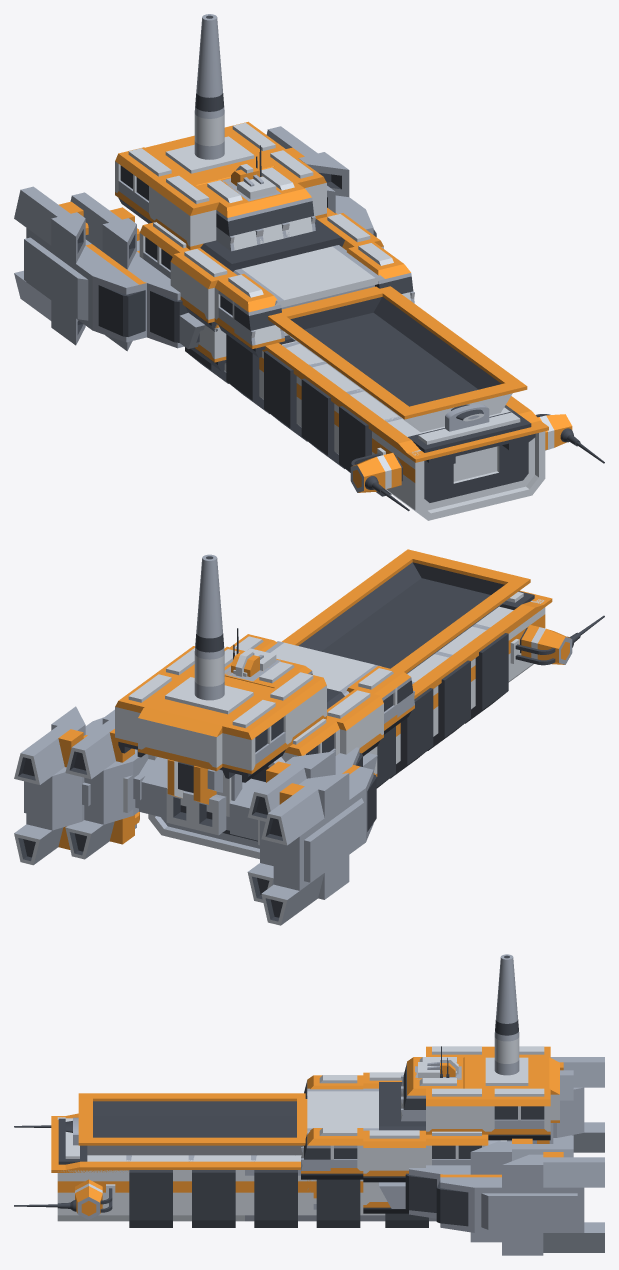
The model's file is cargo_moyen_1.glb.
3 views of the same model, one above another, from view 1: azimuth 30°, elevation 25°; view 2: azimuth 150°, elevation 25°; view 3: azimuth 270°, elevation 25° (orthographic). The views are drawn at different scales.
Visible parts, largest first — view 1: mergedBlocks(Clone); view 2: mergedBlocks(Clone); view 3: mergedBlocks(Clone).
Boxes of the visible parts, x1=… form: mergedBlocks(Clone): x1=14, y1=14, x2=604, y2=520; mergedBlocks(Clone): x1=14, y1=549, x2=604, y2=925; mergedBlocks(Clone): x1=14, y1=954, x2=604, y2=1255.
Size of the model in its own units: 4.4 by 4.4 by 9.47.
1 material, 1 textured.
